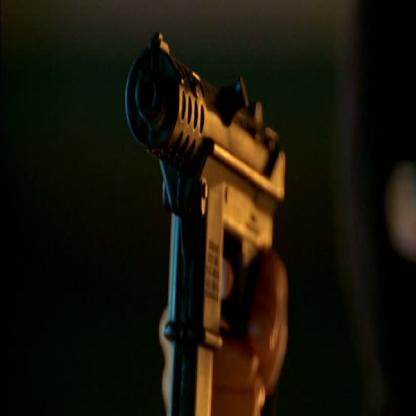Guns: (121, 26, 290, 415)
